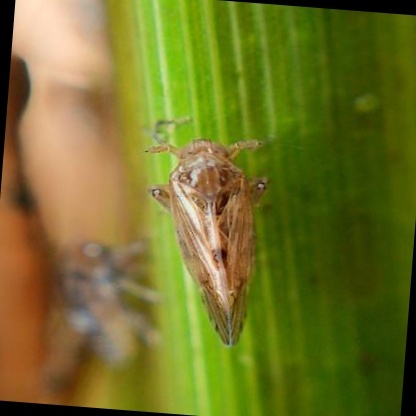Brown_hopper: (102, 91, 311, 373)
